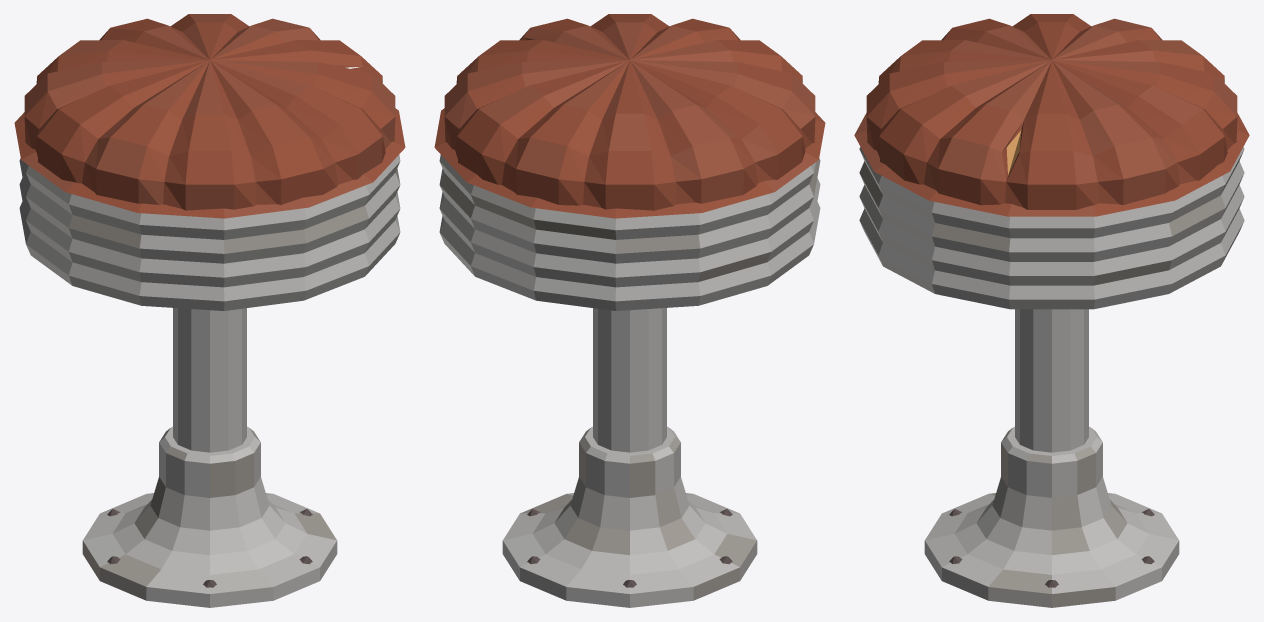
File: counter-stool-73553a.glb
3 renders of one model, left to right at view 1: azimuth 30°, elevation 25°; view 2: azimuth 150°, elevation 25°; view 3: azimuth 270°, elevation 25°, orthographic.
Visible parts, largest first — view 1: seat-vinyl, stool-base, seat-chrome; view 2: seat-vinyl, stool-base, seat-chrome; view 3: seat-vinyl, stool-base, seat-chrome.
Part boxes in pixels (<box>): seat-vinyl: <box>14,14,405,218</box>; stool-base: <box>82,308,337,607</box>; seat-chrome: <box>19,155,400,310</box>; seat-vinyl: <box>434,14,825,218</box>; stool-base: <box>502,308,757,607</box>; seat-chrome: <box>439,155,820,310</box>; seat-vinyl: <box>854,14,1249,216</box>; stool-base: <box>924,309,1179,607</box>; seat-chrome: <box>859,147,1244,309</box>.
Size of the model in its own units: 0.5304 by 0.75 by 0.544.
